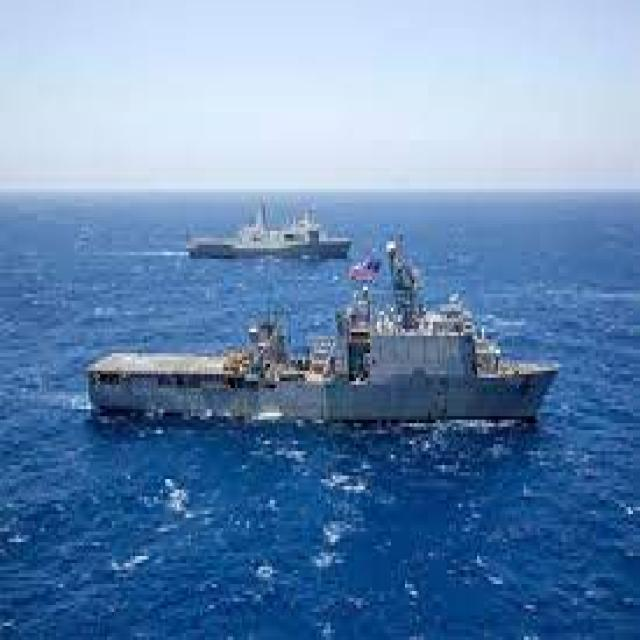navalvessels: (81, 242, 564, 453), (189, 202, 361, 260)
